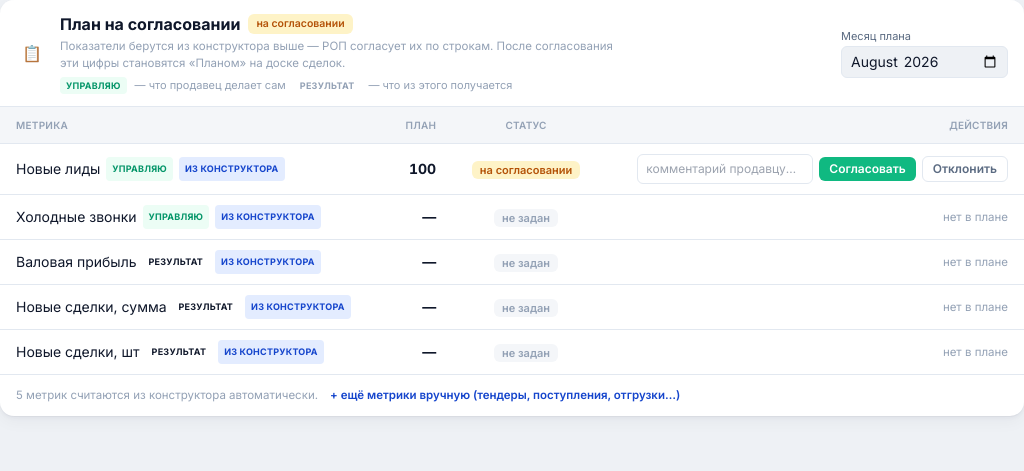
DealPlanEditor › РОП: «Отклонить» вызывает decidePlanComment(id, false, …)
Click the button "Отклонить" at (965, 169), box [922,156,1008,182]
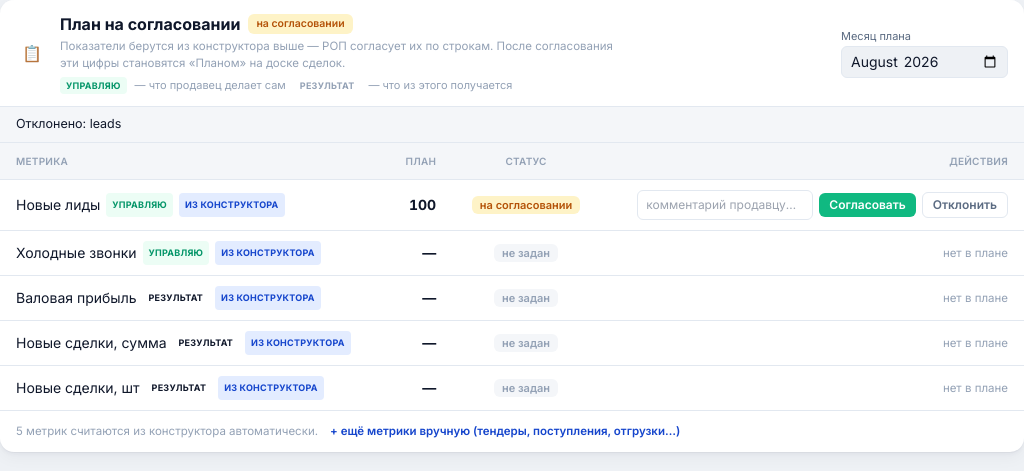
Expected: the text "Отклонено: leads" is shown, [0,107,1023,143]
